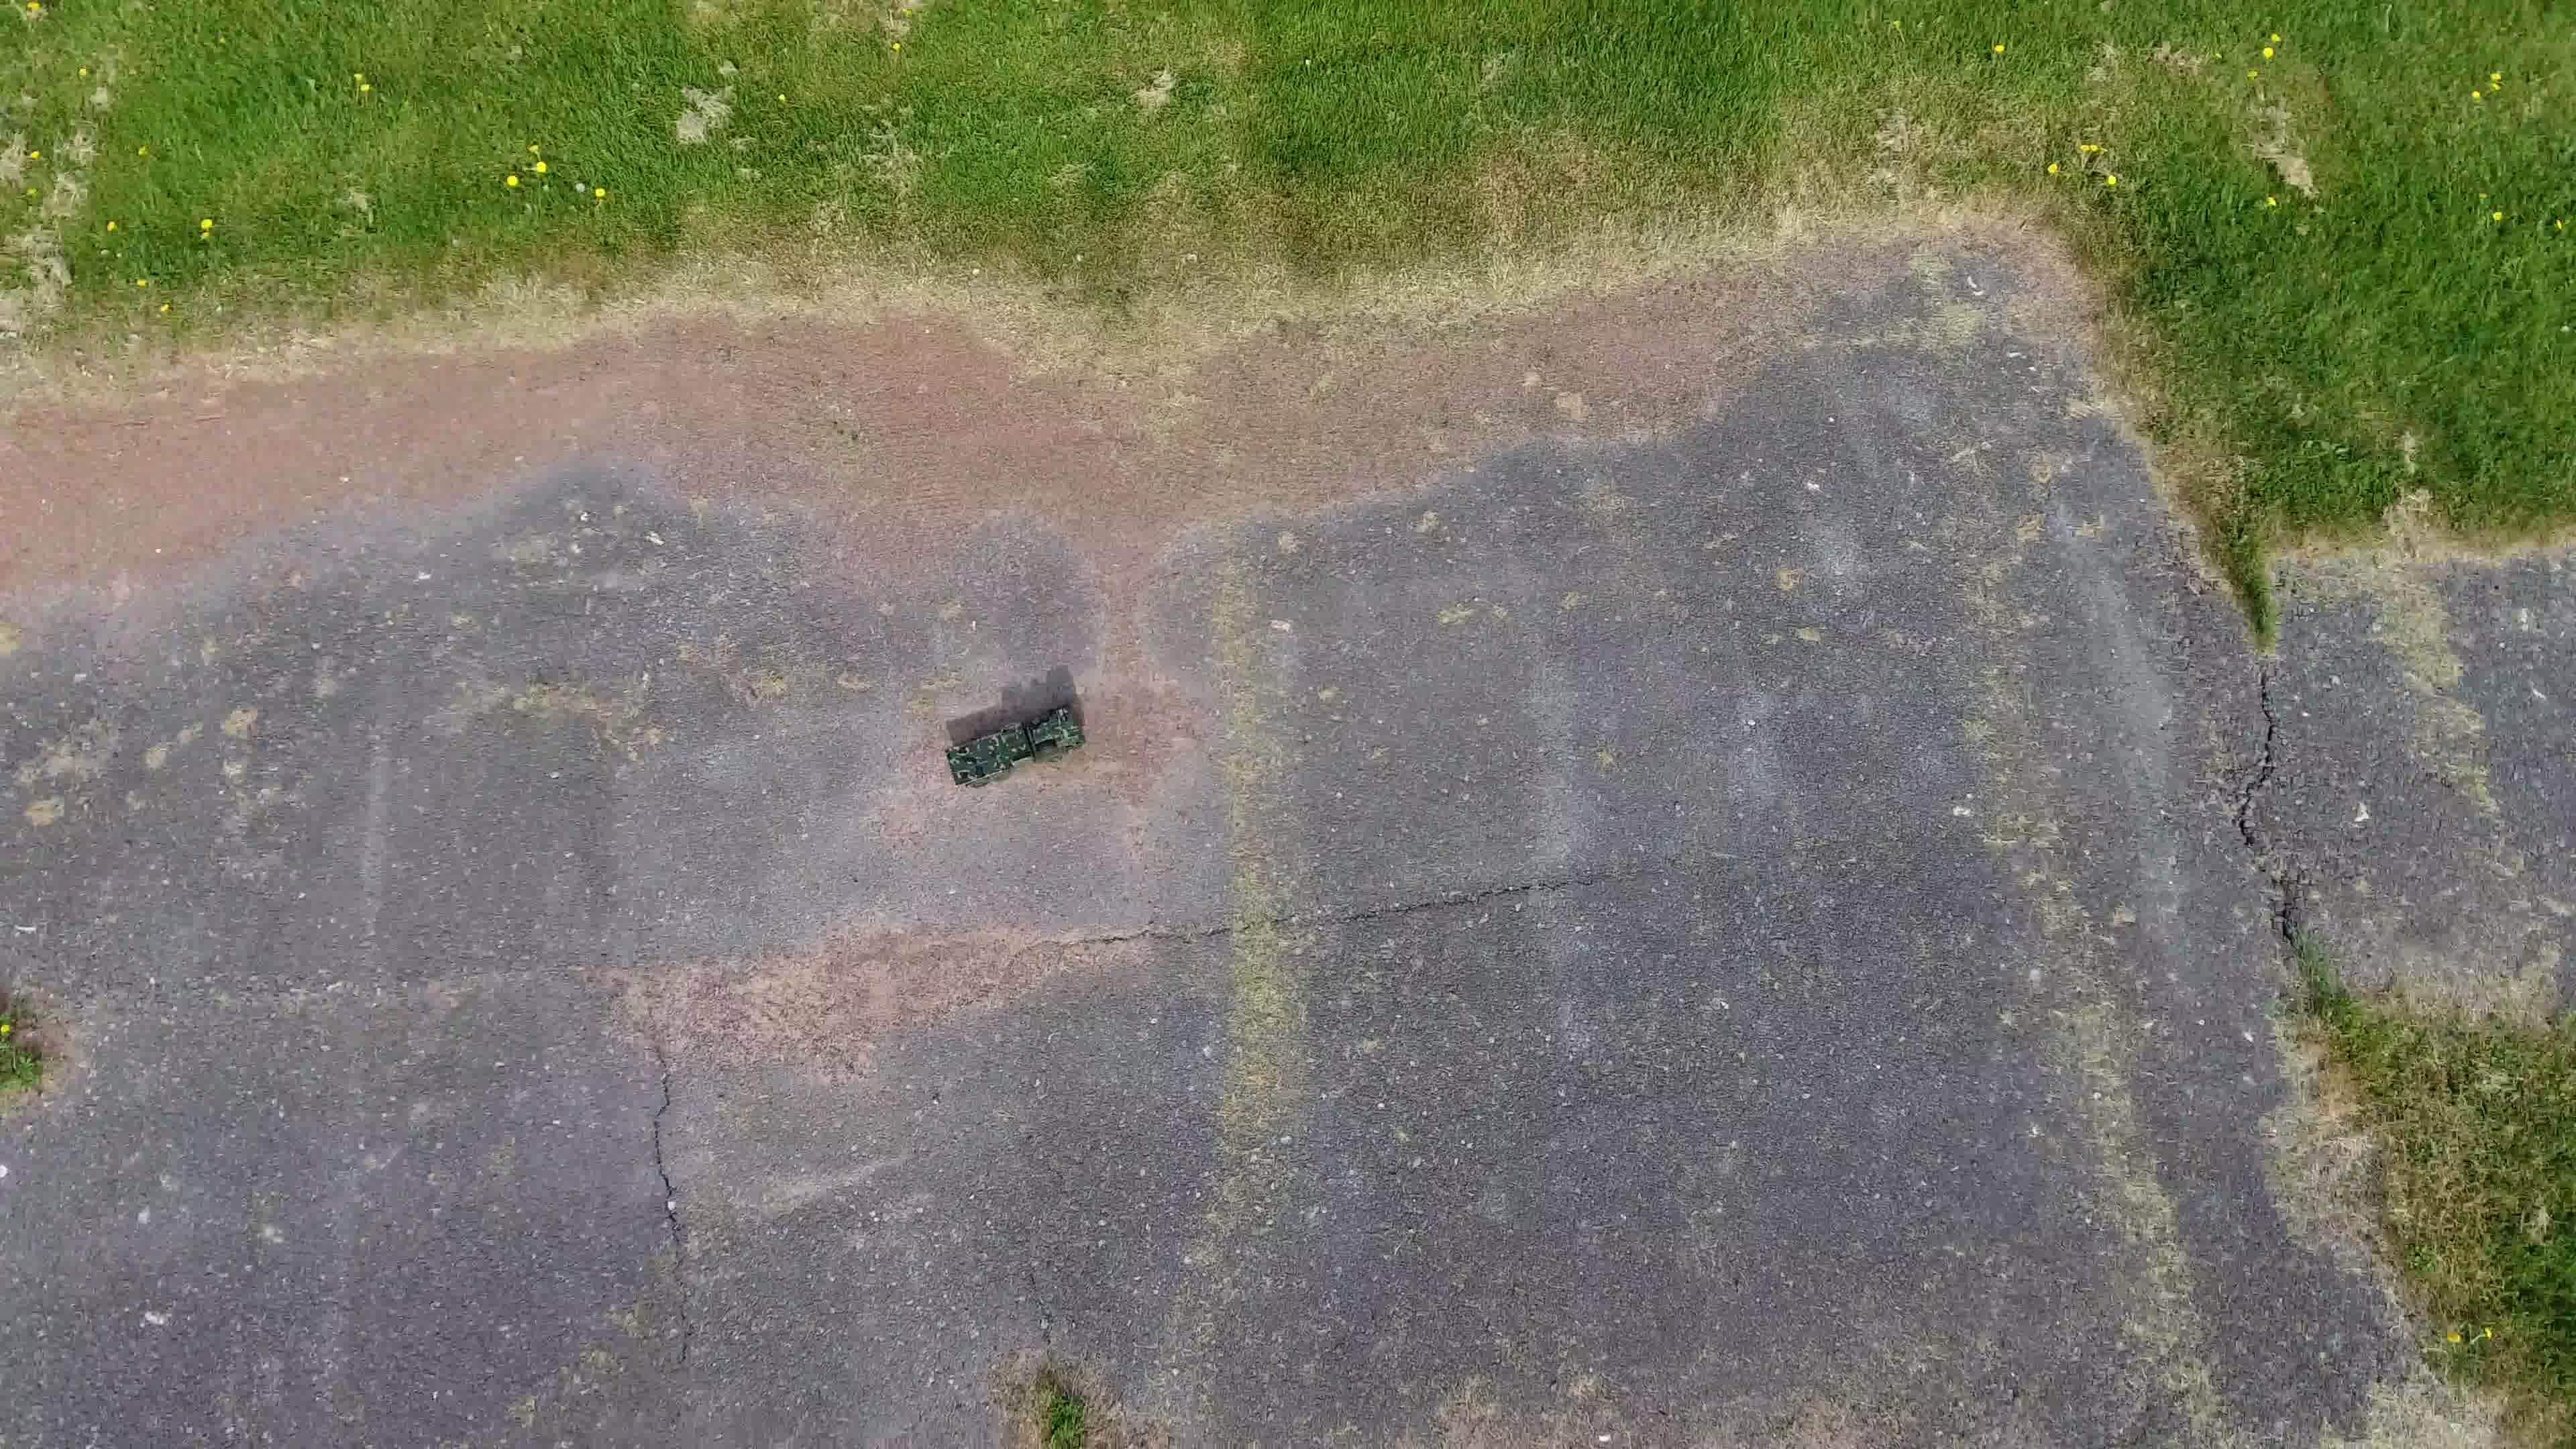transporter9_camo: (939, 699, 1090, 791)
